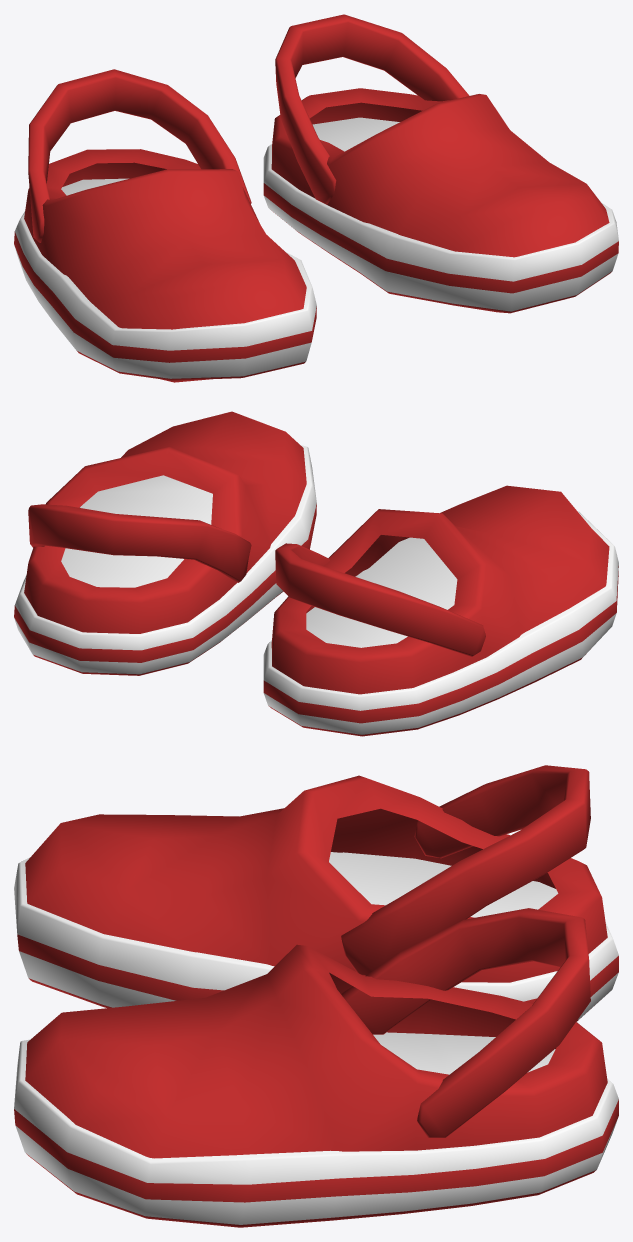
The model's file is Shoe_Sneaker_012.glb.
The picture shows the model from 3 angles, top to bottom: view 1: azimuth 30°, elevation 25°; view 2: azimuth 150°, elevation 25°; view 3: azimuth 270°, elevation 25°; orthographic projection. The views are drawn at different scales.
Parts seen in each view (by area): view 1: Shoe_Sneaker_012; view 2: Shoe_Sneaker_012; view 3: Shoe_Sneaker_012.
Part boxes in pixels (x1,y1,x2,y2): Shoe_Sneaker_012: (14, 14, 618, 382); Shoe_Sneaker_012: (14, 411, 618, 736); Shoe_Sneaker_012: (14, 765, 618, 1227).
Size of the model in its own units: 0.4416 by 0.1342 by 0.3381.
Materials: 1 (1 with a texture image).
